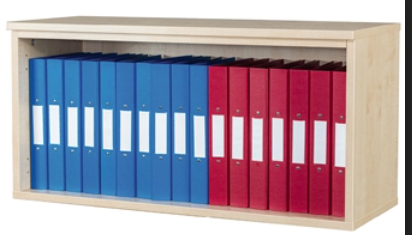Aluminum Shelves: (3, 9, 404, 235)
